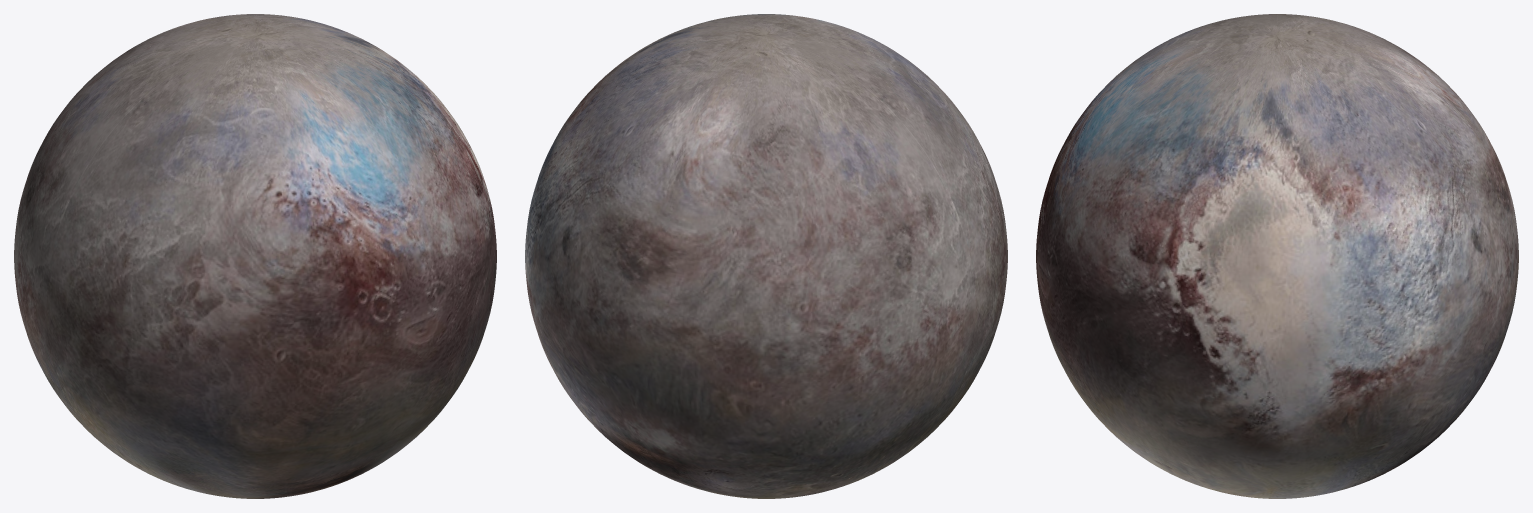
Rendered from pluto.glb.
3 renders of one model, left to right at view 1: azimuth 30°, elevation 25°; view 2: azimuth 150°, elevation 25°; view 3: azimuth 270°, elevation 25°, orthographic.
Visible parts, largest first — view 1: Sphere_0; view 2: Sphere_0; view 3: Sphere_0.
Part boxes in pixels (box(x1,y1,x2,y2)): Sphere_0: box(14, 14, 496, 498); Sphere_0: box(525, 14, 1007, 498); Sphere_0: box(1036, 14, 1518, 498).
Size of the model in its own units: 1.99 by 2 by 1.99.
1 material, 1 textured.
